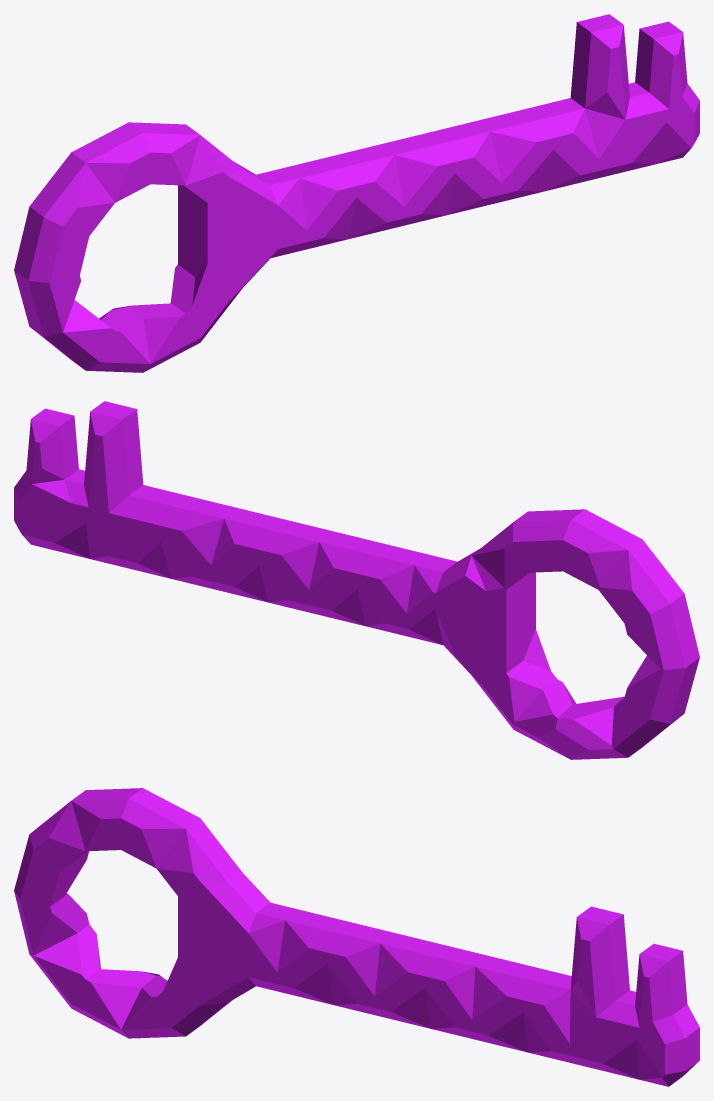
The model's file is key_pink.glb.
The picture shows the model from 3 angles, top to bottom: view 1: azimuth 30°, elevation 25°; view 2: azimuth 150°, elevation 25°; view 3: azimuth 330°, elevation 25°; orthographic projection.
Parts seen in each view (by area): view 1: Circle.024; view 2: Circle.024; view 3: Circle.024.
Part boxes in pixels (x1=…): Circle.024: x1=14, y1=14, x2=699, y2=372; Circle.024: x1=14, y1=401, x2=699, y2=759; Circle.024: x1=14, y1=788, x2=699, y2=1086.
Bounding box in the file's own units: 1.89 × 0.6454 × 0.183.
1 material, 1 textured.
